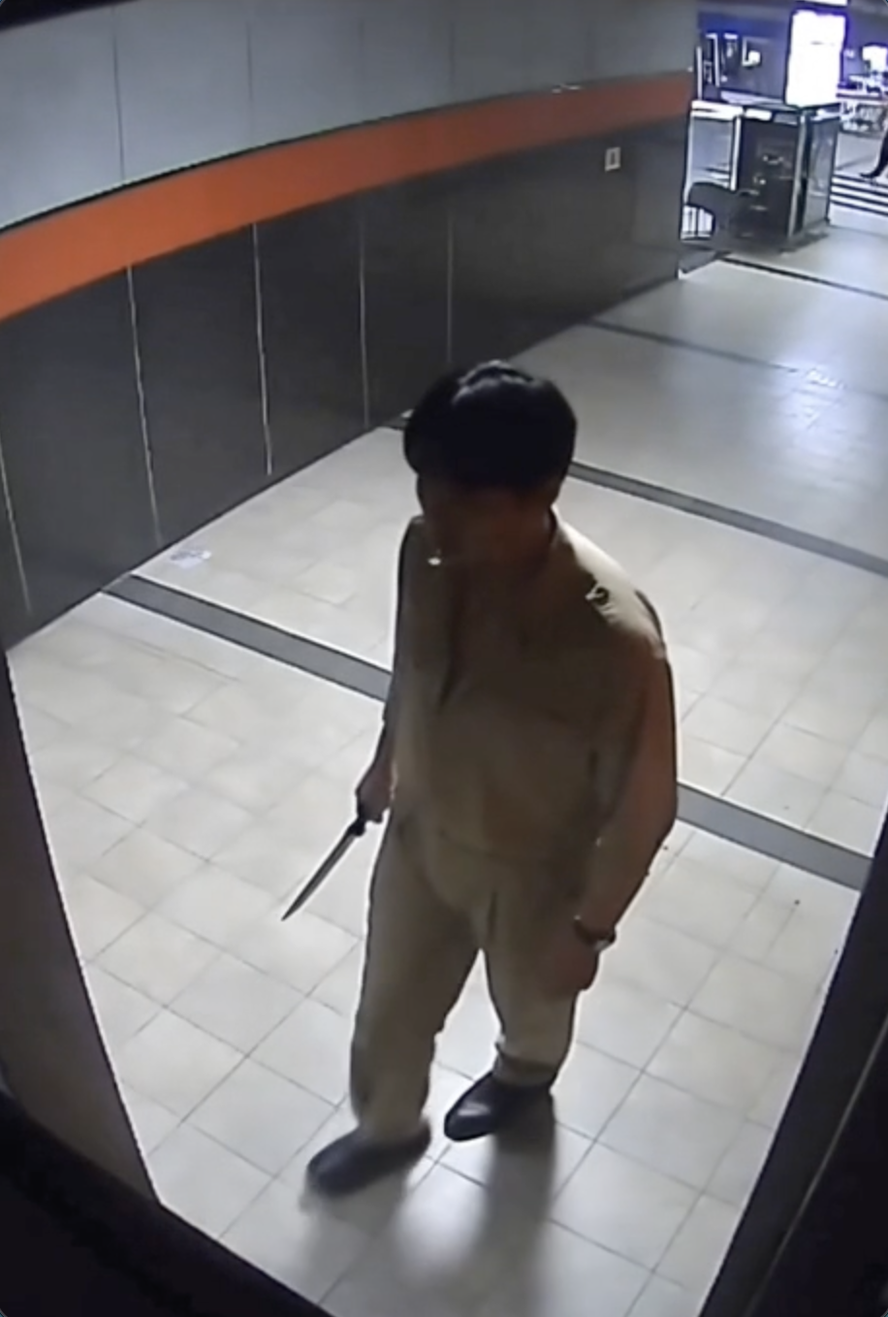Heavy Gun: (291, 360, 687, 1203)
Knife: (279, 752, 396, 922)
